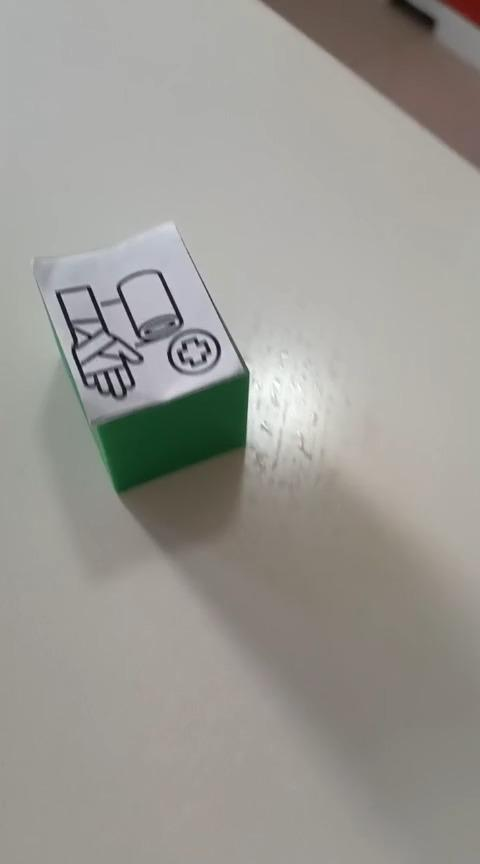Bandages: (31, 220, 250, 495)
